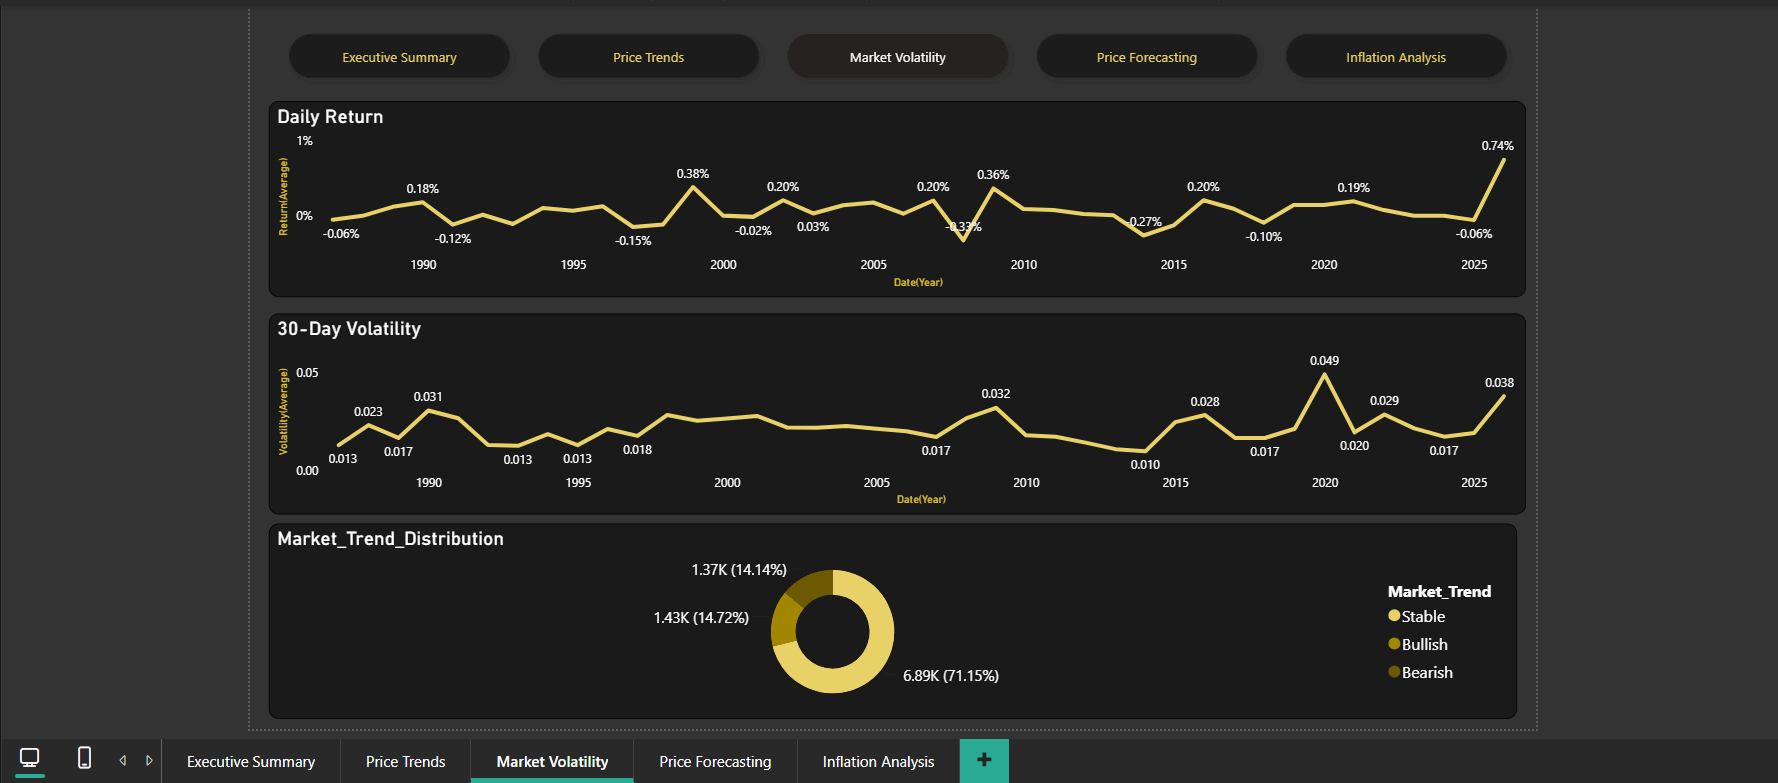

The page's visual inventory and layout, read from the dashboard file:
{"tool":"powerbi","page":{"name":"Market Volatility","canvas":[1280,720],"ordinal":2},"visuals":[{"type":"lineChart","title":"Daily Return","fields":{"Category":["Oil_Project_Final.Date.Variation.Date Hierarchy.Year","Oil_Project_Final.Date.Variation.Date Hierarchy.Quarter","Oil_Project_Final.Date.Variation.Date Hierarchy.Month","Oil_Project_Final.Date.Variation.Date Hierarchy.Day"],"Y":["Avg(Oil_Project_Final.Return)"]},"box":[18.7,94.5,1251.4,195.3],"z":0},{"type":"lineChart","title":"30-Day Volatility","fields":{"Category":["Oil_Project_Final.Date.Variation.Date Hierarchy.Year","Oil_Project_Final.Date.Variation.Date Hierarchy.Quarter","Oil_Project_Final.Date.Variation.Date Hierarchy.Month","Oil_Project_Final.Date.Variation.Date Hierarchy.Day"],"Y":["Avg(Oil_Project_Final.Volatility)"]},"box":[18.7,306,1251.4,200.3],"z":1000},{"type":"donutChart","title":"Market_Trend_Distribution","fields":{"Category":["Oil_Project_Final.Market_Trend"],"Y":["CountNonNull(Oil_Project_Final.Market_Trend)"]},"box":[18.7,515,1242.7,194.1],"z":2000},{"type":"pageNavigator","box":[29.9,18.7,1231.5,62.2],"z":4001}]}

Visuals, with their boxes on the page's 1280x720 design canvas (x1, y1, x2, y2). These are canvas units, not pixel positions in the 1778x783 screenshot, which may show the page scaled, cropped or inside an application window:
"Daily Return" lineChart: bbox=[19, 94, 1270, 290]
"30-Day Volatility" lineChart: bbox=[19, 306, 1270, 506]
"Market_Trend_Distribution" donutChart: bbox=[19, 515, 1261, 709]
pageNavigator: bbox=[30, 19, 1261, 81]
